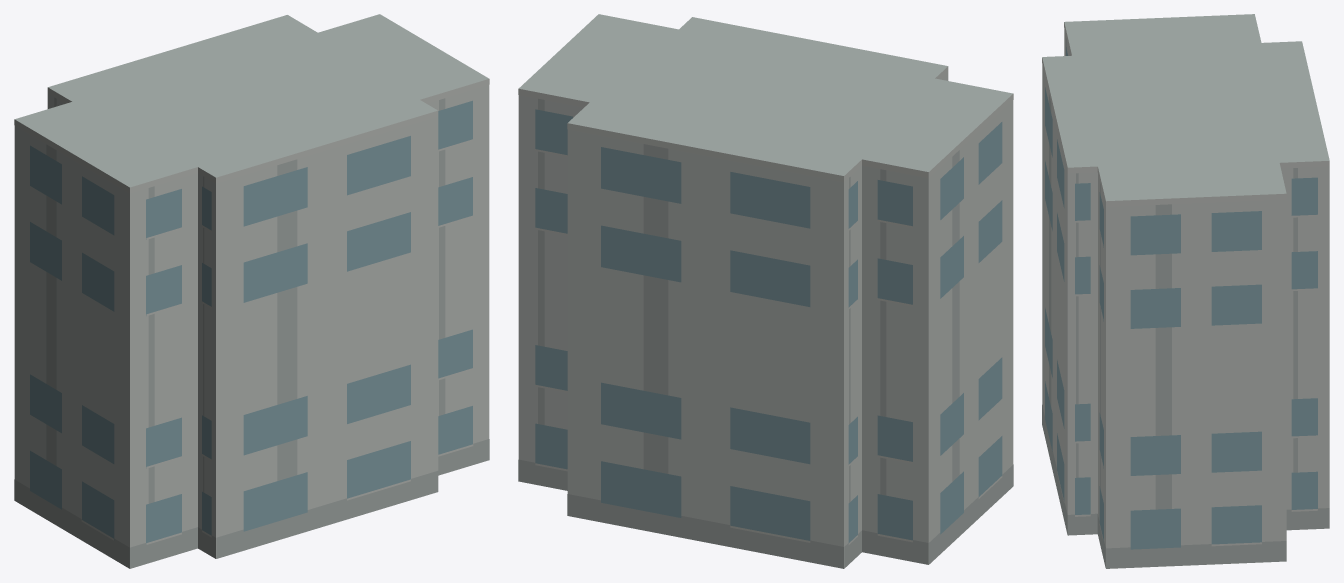
File: survey-upis-32813685.glb
3 renders of one model, left to right at view 1: azimuth 30°, elevation 25°; view 2: azimuth 150°, elevation 25°; view 3: azimuth 270°, elevation 25°, orthographic. The views are drawn at different scales.
Visible parts, largest first — view 1: survey-upis-32813685.tmp; view 2: survey-upis-32813685.tmp; view 3: survey-upis-32813685.tmp.
Boxes of the visible parts, <box> form: survey-upis-32813685.tmp: <box>14,14,489,568</box>; survey-upis-32813685.tmp: <box>518,14,1013,568</box>; survey-upis-32813685.tmp: <box>1042,14,1329,568</box>.
Bounding box in the file's own units: 16.66 × 15.25 × 10.82.
